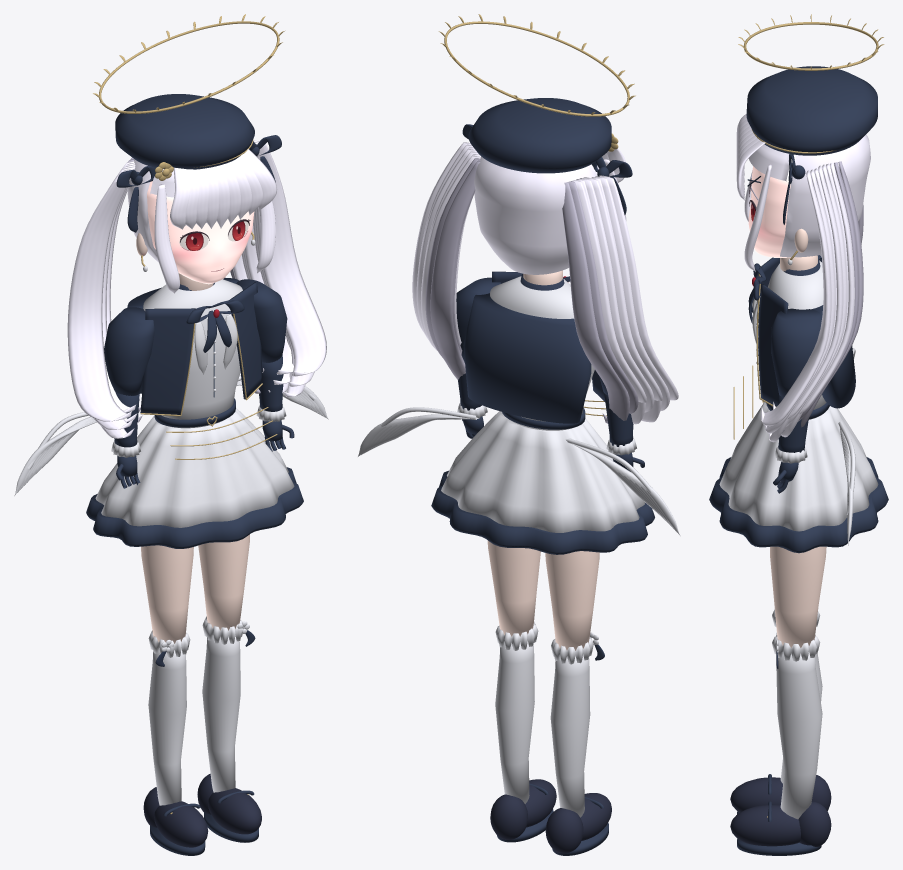
Rendered from sui.glb.
3 views of the same model, side by side, from view 1: azimuth 30°, elevation 25°; view 2: azimuth 150°, elevation 25°; view 3: azimuth 270°, elevation 25° (orthographic). The views are drawn at different scales.
Visible parts, largest first — view 1: Sui_Body / Ivory cotton, Sui_Body / Midnight blue tailoring, Sui_Head / Midnight blue tailoring, Sui_Head / Pearl silver hair / strand paint, Sui_LeftHair / Pearl silver hair / strand paint, Sui_RightHair / Pearl silver hair / strand paint, Sui_RightShin / Ivory cotton, Sui_LeftShin / Ivory cotton, Shaped thigh, Sui_Face / shaped cheek and jaw topology, Shaped thigh.001, Soft puffed sleeve (+13 smaller); view 2: Sui_Body / Midnight blue tailoring, Sui_Body / Ivory cotton, Sui_LeftHair / Pearl silver hair / strand paint, Sui_Head / Midnight blue tailoring, Sui_Head / Pearl silver hair / strand paint, Sui_LeftHair / Silver lilac hair underside, Sui_LeftShin / Ivory cotton, Sui_RightShin / Ivory cotton, Sui_RightHair / Silver lilac hair underside, Shaped thigh, Shaped thigh.001, Sui_RightHair / Pearl silver hair / strand paint (+8 smaller); view 3: Sui_Body / Ivory cotton, Sui_Head / Midnight blue tailoring, Sui_Body / Midnight blue tailoring, Sui_RightHair / Pearl silver hair / strand paint, Sui_Head / Pearl silver hair / strand paint, Sui_RightShin / Ivory cotton, Shaped thigh.001, Sui_RightShin / Polished midnight shoes, Soft puffed sleeve.001, Sui_Face / shaped cheek and jaw topology, Sui_RightHair / Silver lilac hair underside, Sui_LeftShin / Polished midnight shoes (+9 smaller).
Part boxes in pixels (box(x1,y1,x2,y2)): Sui_Body / Ivory cotton: box(95, 279, 294, 527); Sui_Body / Midnight blue tailoring: box(86, 277, 303, 548); Sui_Head / Midnight blue tailoring: box(115, 94, 281, 232); Sui_Head / Pearl silver hair / strand paint: box(127, 149, 276, 293); Sui_LeftHair / Pearl silver hair / strand paint: box(67, 161, 140, 438); Sui_RightHair / Pearl silver hair / strand paint: box(232, 140, 326, 397); Sui_RightShin / Ivory cotton: box(202, 616, 249, 792); Sui_LeftShin / Ivory cotton: box(148, 630, 190, 805); Shaped thigh: box(141, 545, 193, 643); Sui_Face / shaped cheek and jaw topology: box(147, 181, 254, 284); Shaped thigh.001: box(198, 534, 249, 630); Soft puffed sleeve: box(104, 307, 154, 395); Sui_Body / Midnight blue tailoring: box(431, 271, 654, 554); Sui_Body / Ivory cotton: box(441, 276, 644, 532); Sui_LeftHair / Pearl silver hair / strand paint: box(572, 175, 678, 424); Sui_Head / Midnight blue tailoring: box(462, 98, 632, 214); Sui_Head / Pearl silver hair / strand paint: box(474, 148, 626, 274); Sui_LeftHair / Silver lilac hair underside: box(562, 181, 638, 423); Sui_LeftShin / Ivory cotton: box(550, 632, 598, 817); Sui_RightShin / Ivory cotton: box(495, 621, 538, 803); Sui_RightHair / Silver lilac hair underside: box(425, 158, 480, 379); Shaped thigh: box(545, 551, 599, 650); Shaped thigh.001: box(487, 540, 540, 636); Sui_RightHair / Pearl silver hair / strand paint: box(412, 142, 480, 361); Sui_Body / Ivory cotton: box(719, 260, 878, 531); Sui_Head / Midnight blue tailoring: box(746, 66, 877, 224); Sui_Body / Midnight blue tailoring: box(709, 257, 888, 553); Sui_RightHair / Pearl silver hair / strand paint: box(761, 163, 854, 442); Sui_Head / Pearl silver hair / strand paint: box(736, 114, 870, 271); Sui_RightShin / Ivory cotton: box(772, 634, 822, 819); Shaped thigh.001: box(770, 546, 826, 647); Sui_RightShin / Polished midnight shoes: box(730, 801, 831, 846); Soft puffed sleeve.001: box(771, 308, 821, 396); Sui_Face / shaped cheek and jaw topology: box(748, 154, 796, 257); Sui_RightHair / Silver lilac hair underside: box(798, 161, 863, 427); Sui_LeftShin / Polished midnight shoes: box(730, 775, 831, 812).
Bounding box in the file's own units: 0.7703 × 1.83 × 0.3661.
Materials: 14 (5 with a texture image).
